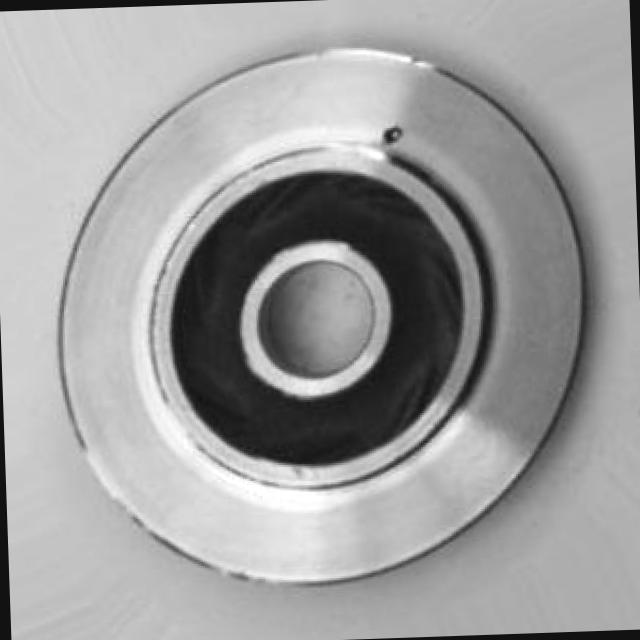Defect: (377, 119, 413, 152)
